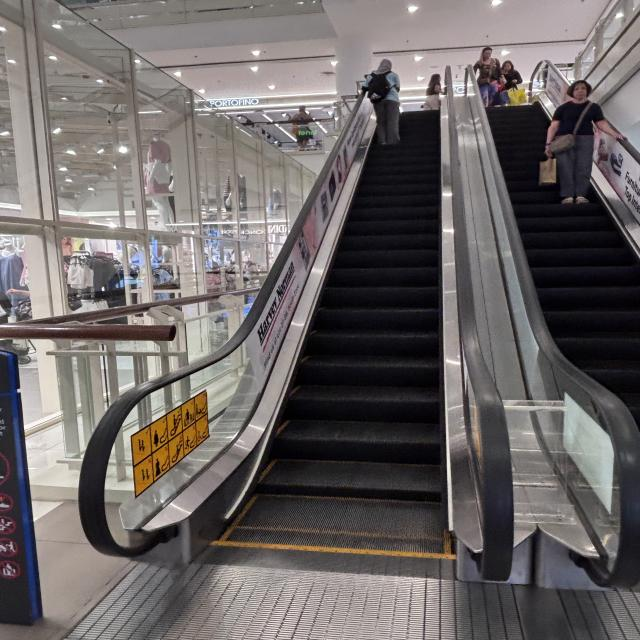escalator: (42, 72, 563, 640), (465, 56, 640, 640)
